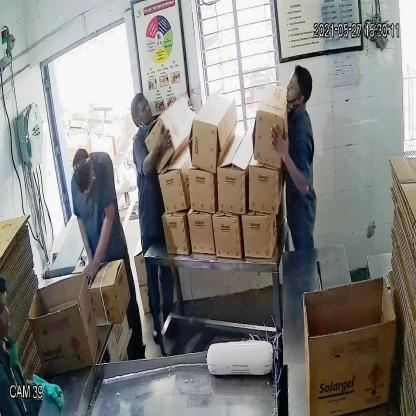no_goggles: (285, 78, 307, 96)
